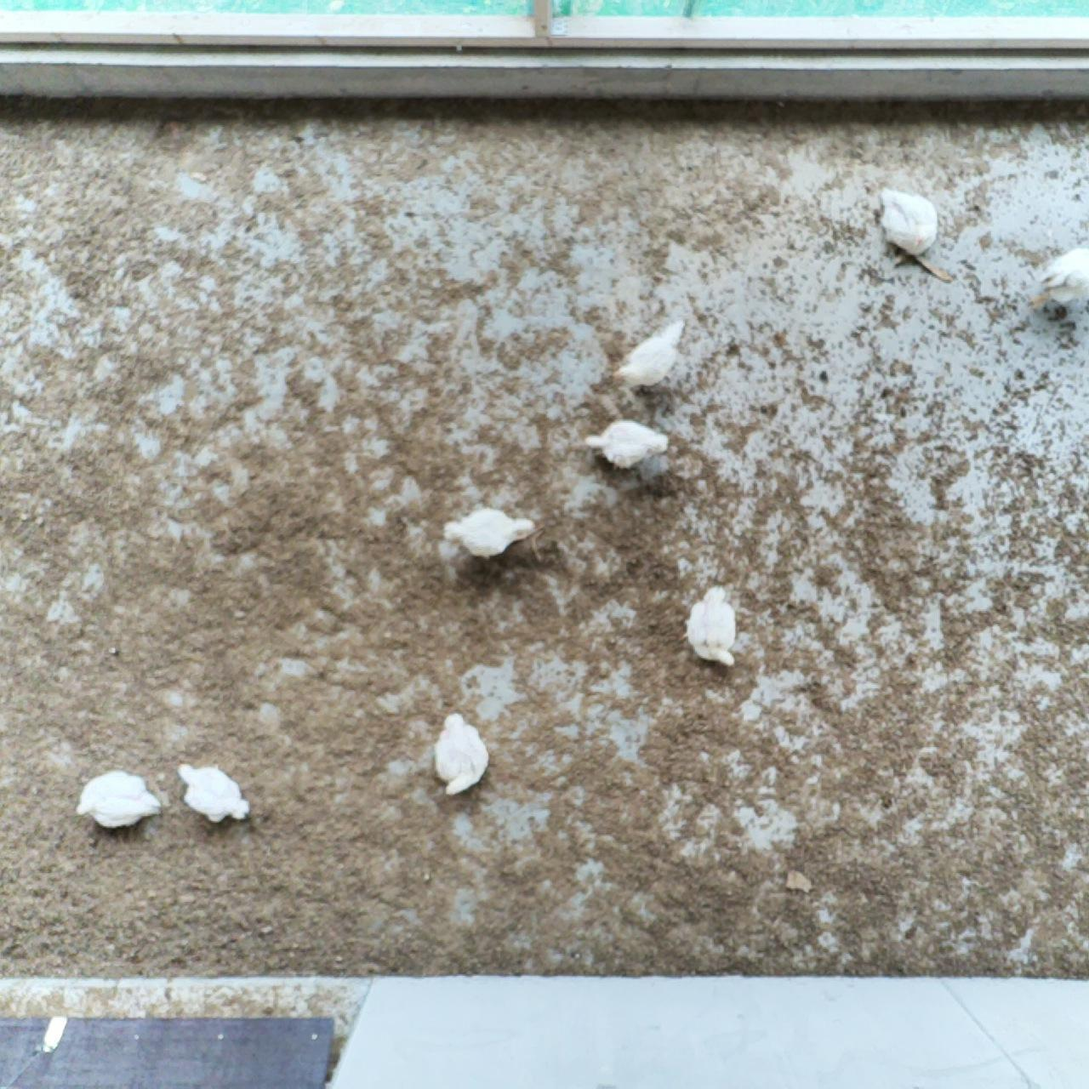chicken: (608, 316, 690, 391), (441, 504, 540, 565), (874, 182, 944, 268), (75, 767, 164, 834), (430, 707, 493, 801), (680, 582, 744, 673), (176, 759, 253, 826), (584, 415, 672, 472), (1029, 243, 1089, 314)
